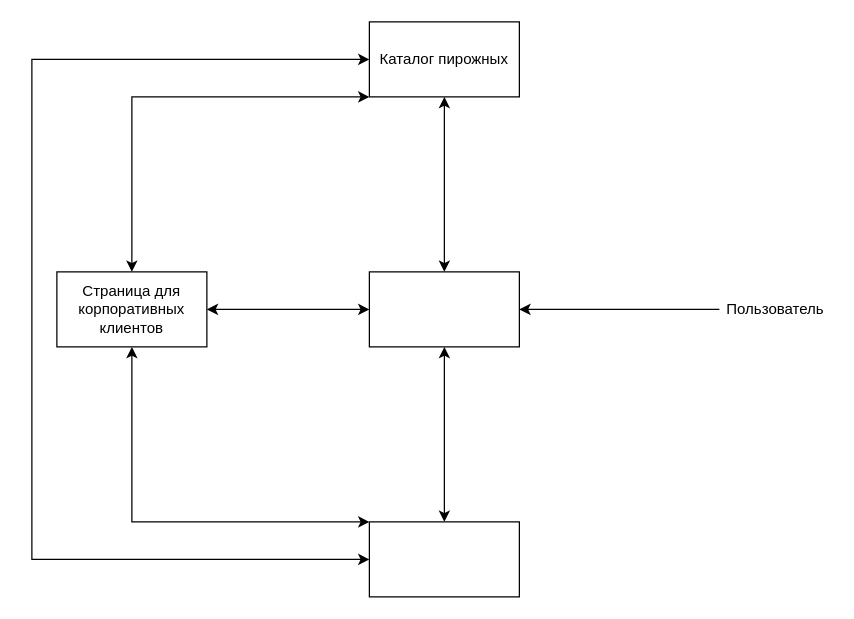
Some shapes in this 854 by 619 pixel diagram are drawn without their labels. Here are the shapes that lost their labels. From the top down, the box of each, then its label:
(368, 271, 519, 347): Главная страница
(368, 521, 519, 597): Страница о нас
